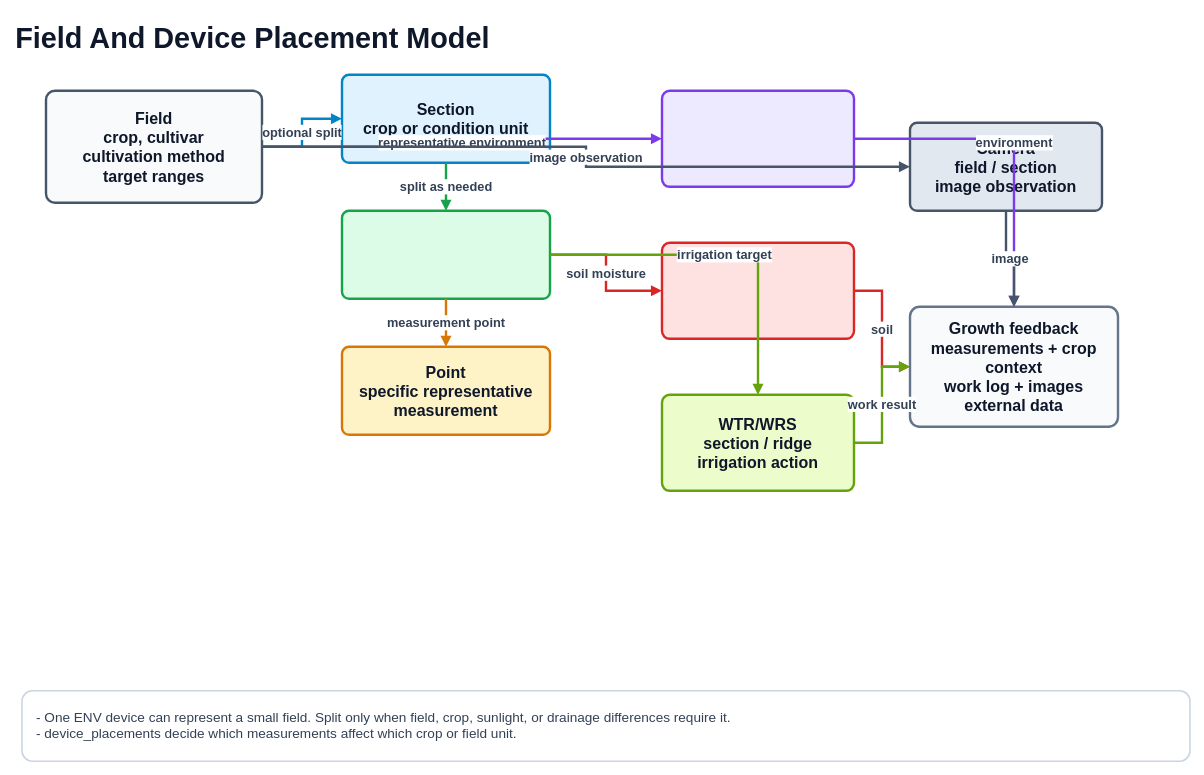
The diagram is 1204 pixels wide and 775 high, and some of its shapes have lost their labels. The box of each missing label's shape, as (x1, y1, x2, y2) in pixels:
ENV field or section temp, humidity, light EC/pH/NPK: (660, 89, 855, 188)
Ridge / bed soil moisture and irrigation unit: (340, 209, 551, 300)
SOI ridge / point soil moisture: (660, 241, 855, 340)
